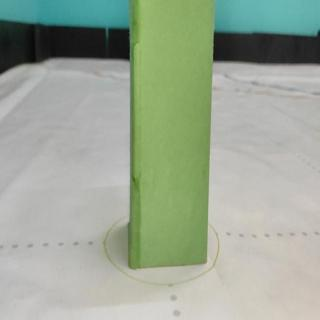greenbox: (127, 0, 214, 269)
